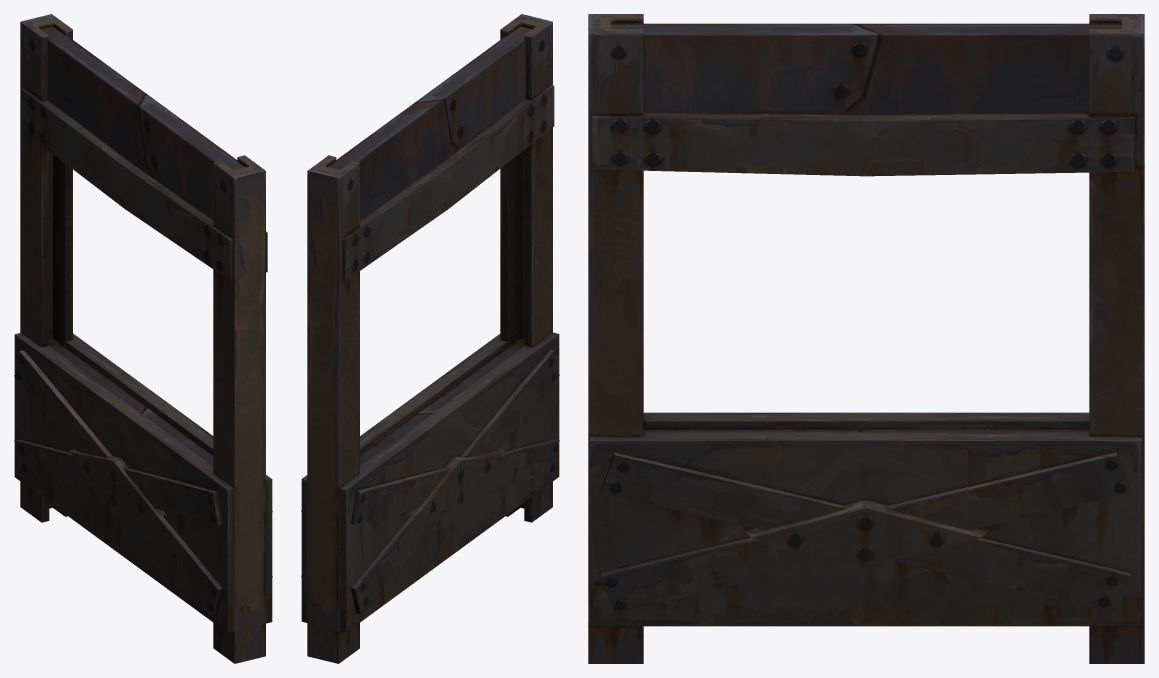
The model's file is Window03.FBX.
3 renders of one model, left to right at view 1: azimuth 30°, elevation 25°; view 2: azimuth 150°, elevation 25°; view 3: azimuth 270°, elevation 25°, orthographic. The views are drawn at different scales.
Visible parts, largest first — view 1: Window03; view 2: Window03; view 3: Window03.
Boxes of the visible parts, x1=… form: Window03: x1=14, y1=14, x2=272, y2=663; Window03: x1=301, y1=14, x2=559, y2=663; Window03: x1=588, y1=14, x2=1144, y2=663.
Bounding box in the file's own units: 0.3385 × 2.5 × 2.
Materials: 1 (1 with a texture image).
